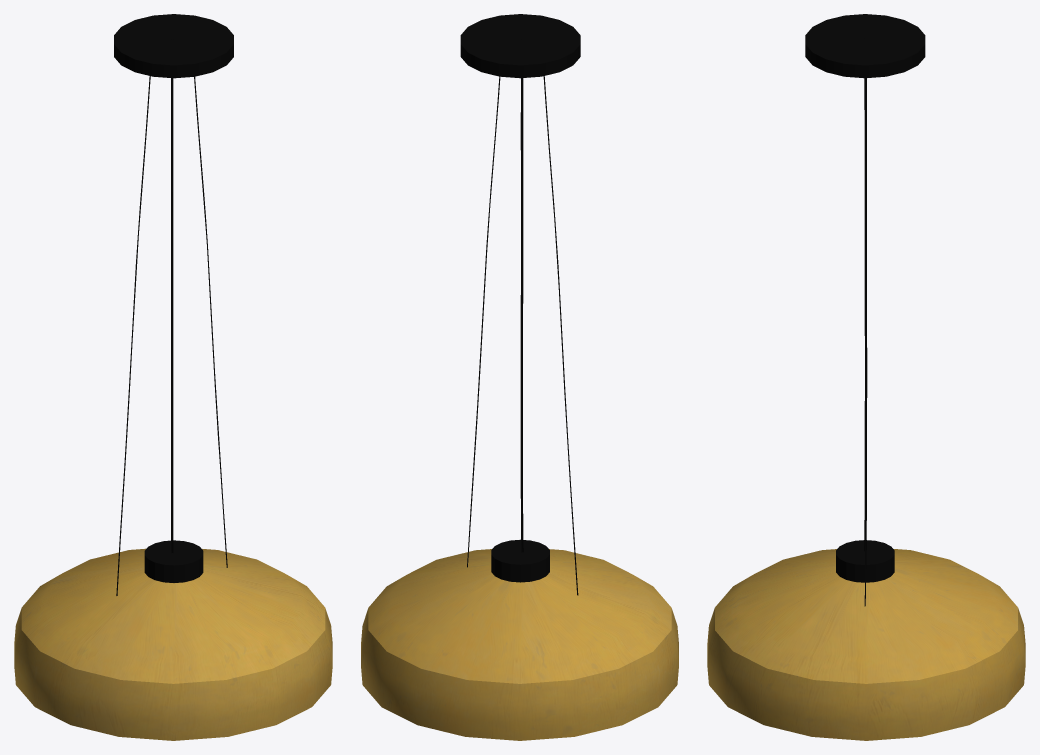
The model's file is Ceiling Lamp 14.FBX.
3 views of the same model, side by side, from view 1: azimuth 30°, elevation 25°; view 2: azimuth 150°, elevation 25°; view 3: azimuth 270°, elevation 25° (orthographic).
Parts seen in each view (by area): view 1: Ceiling lamp 14; view 2: Ceiling lamp 14; view 3: Ceiling lamp 14.
Part boxes in pixels (x1,y1,x2,y2): Ceiling lamp 14: (14, 14, 332, 740); Ceiling lamp 14: (361, 14, 678, 740); Ceiling lamp 14: (707, 14, 1025, 740).
Size of the model in its own units: 45.14 by 97.73 by 44.46.
3 materials, 1 textured.
